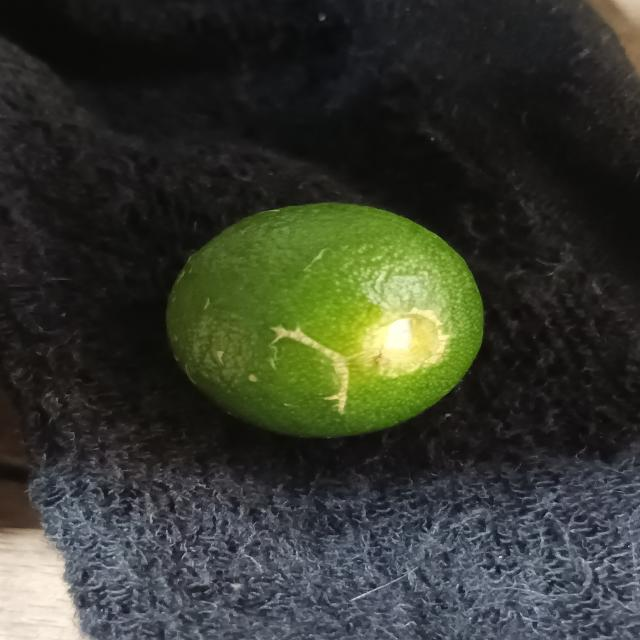thrips: (163, 194, 474, 452)
